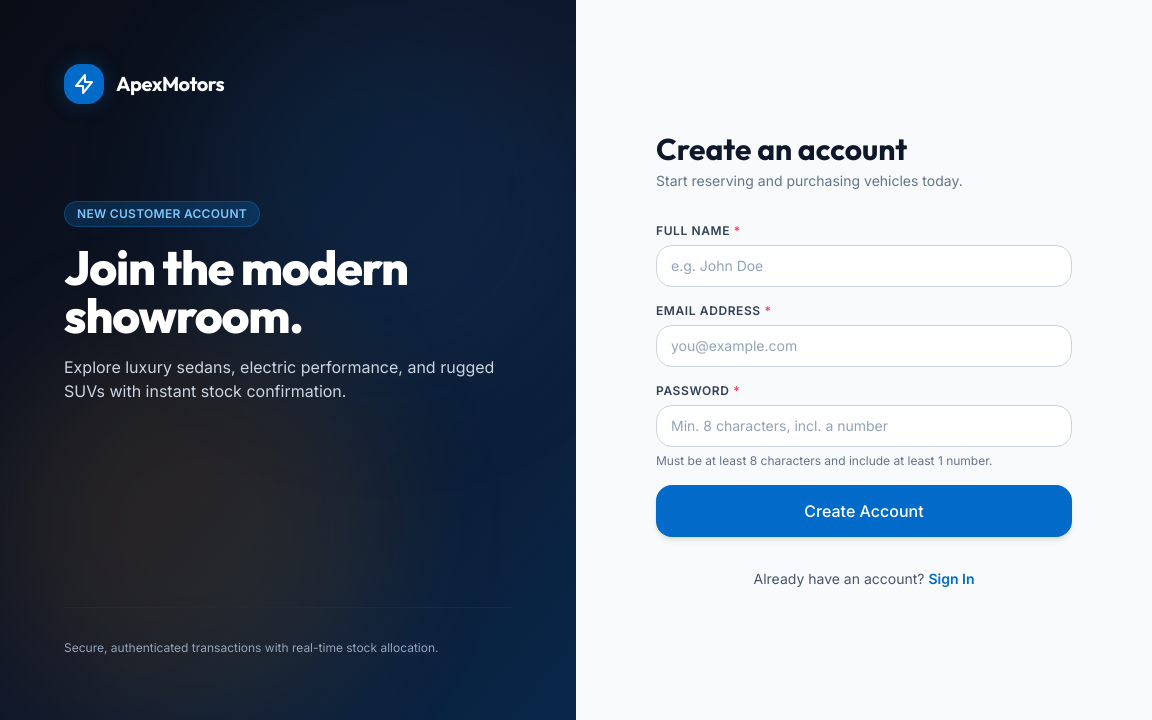
Test: Auth Pages (Login and Register) › RegisterPage › should validate password rules (length and numeric requirement)
Type "John Doe" into the field labelled "Full Name *" at (864, 266), box x1=656 y1=245 x2=1072 y2=287
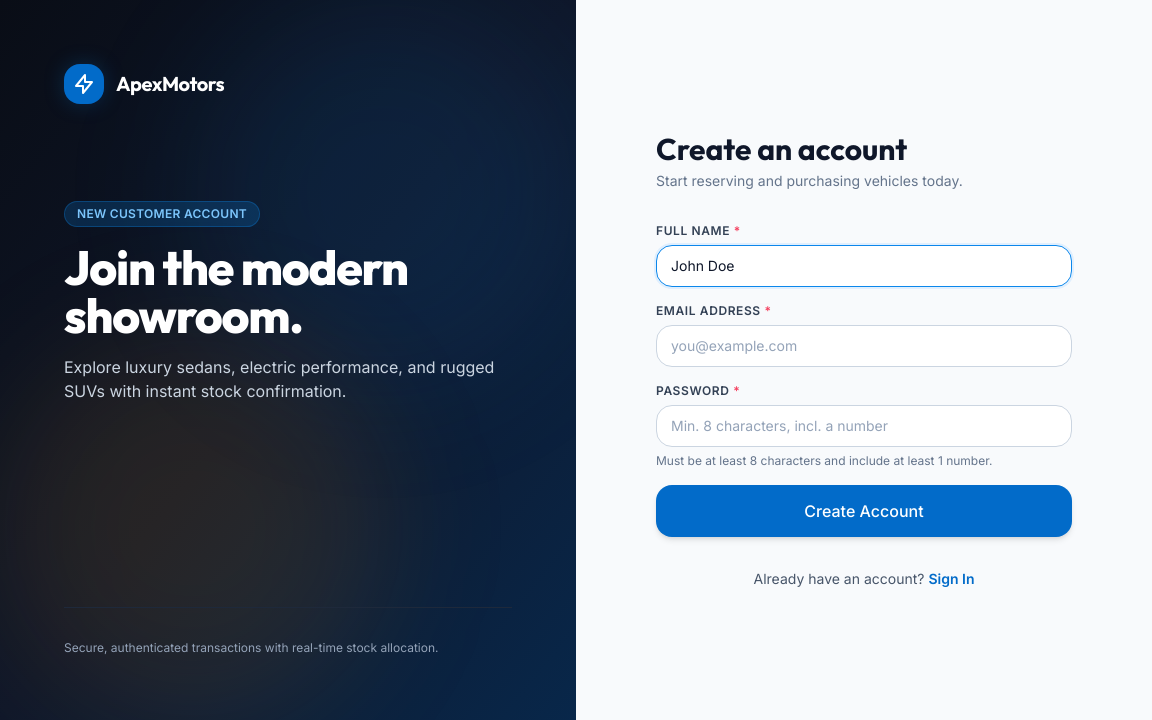
Type "john@example.com" into the field labelled "Email Address *" at (864, 346), box x1=656 y1=325 x2=1072 y2=367
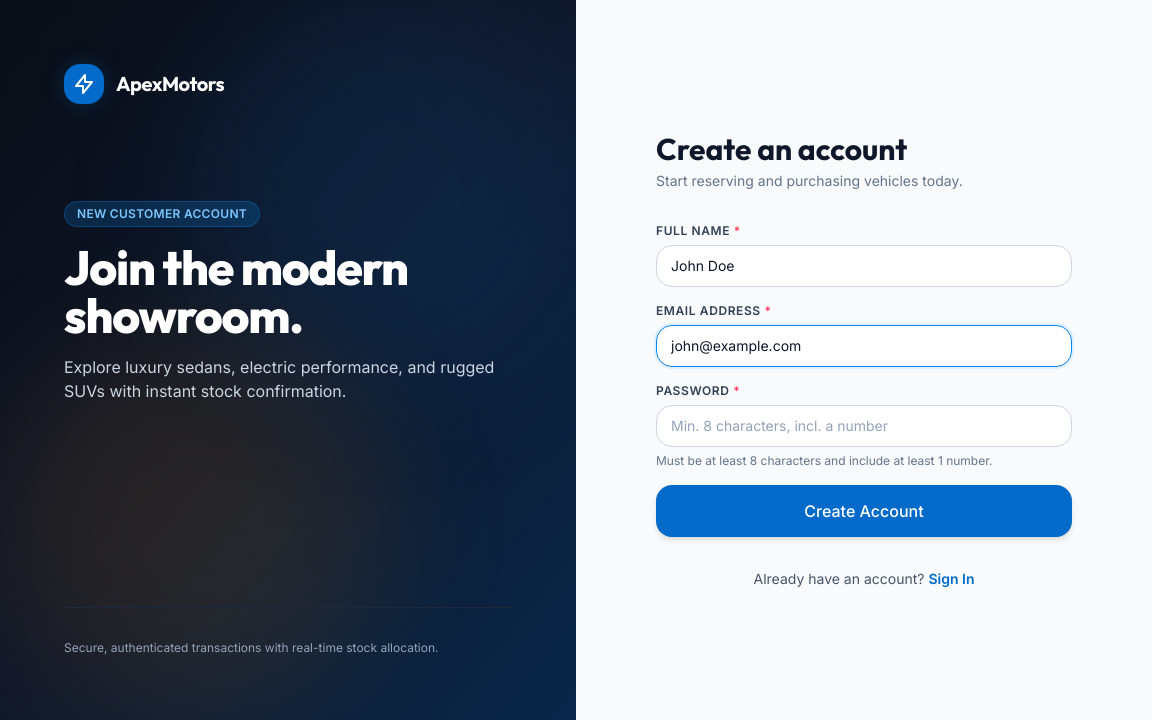
Type "short" into the password field labelled "Password *" at (864, 426), box x1=656 y1=405 x2=1072 y2=447
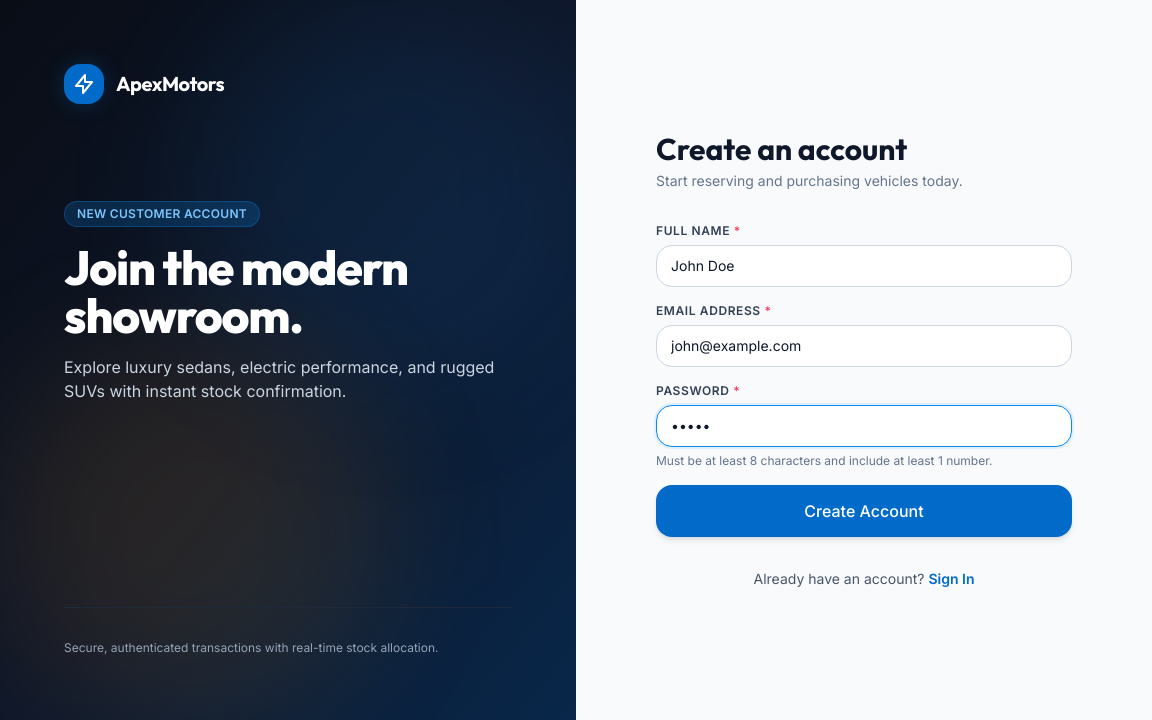
Click the button "Create Account" at (864, 511), box x1=656 y1=485 x2=1072 y2=537
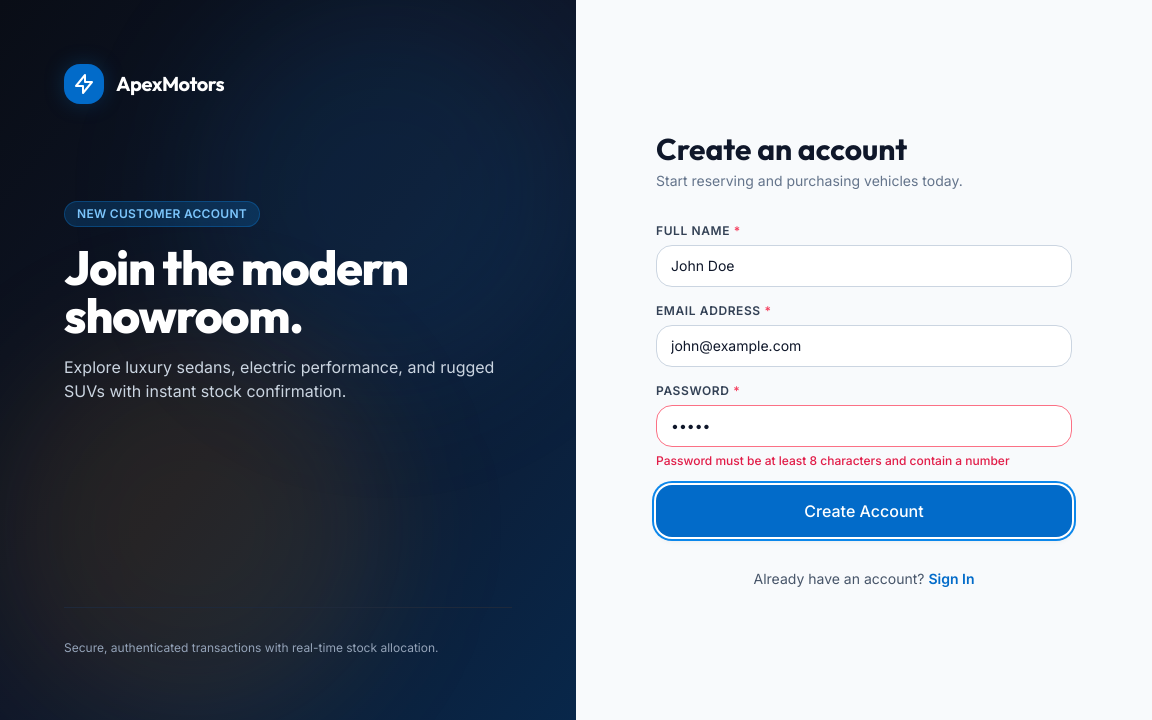
Expected: the text "Password must be at least 8 characters and contain a number" is shown, x1=656 y1=453 x2=1010 y2=468
